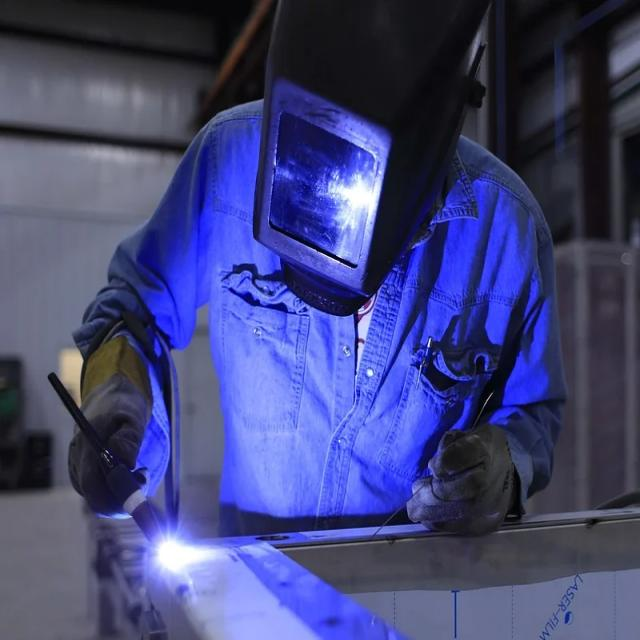welding: (157, 539, 209, 564)
